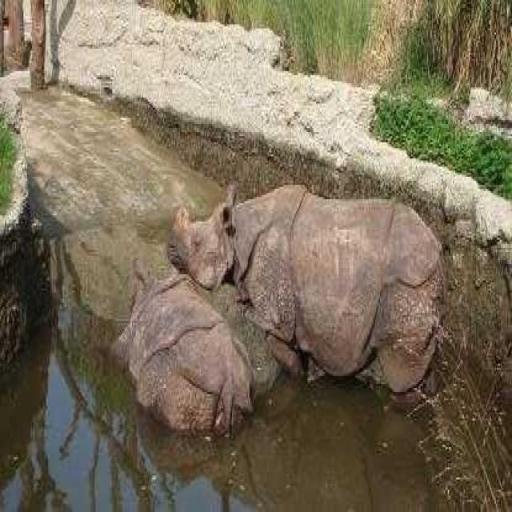Rhino: (165, 179, 447, 404), (109, 264, 259, 439)
